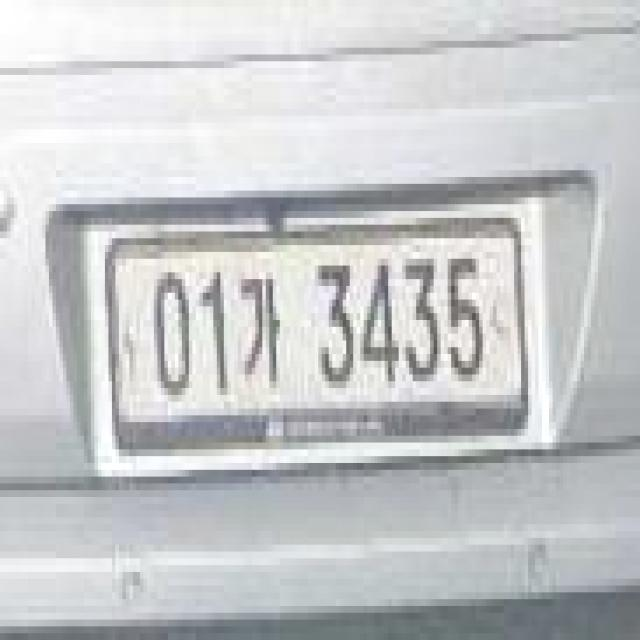illegal_plate: (102, 207, 532, 458)
